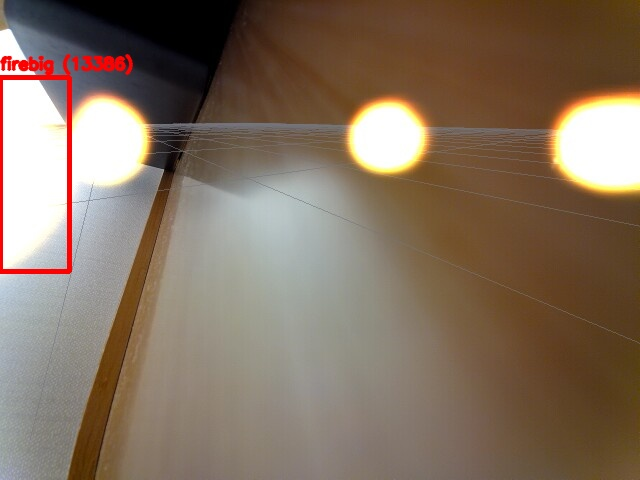firebig: (0, 77, 69, 271)
